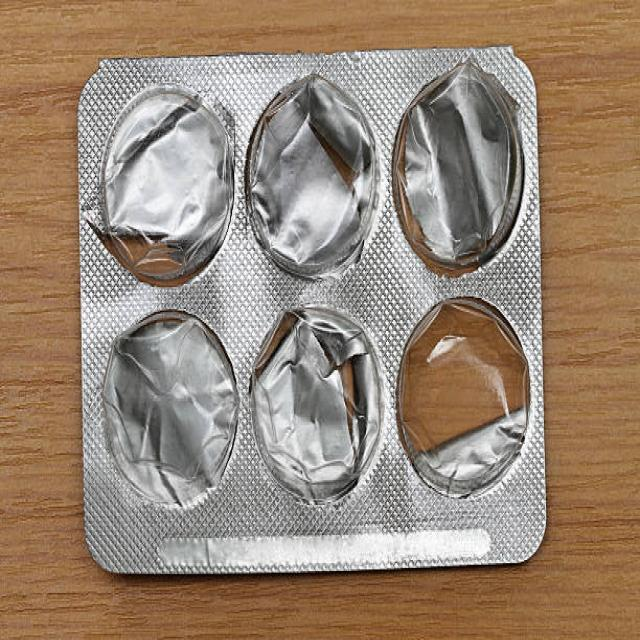Empty: (95, 303, 244, 507), (393, 292, 534, 502), (248, 297, 386, 505), (388, 68, 525, 277), (92, 87, 235, 286), (242, 74, 376, 282)
